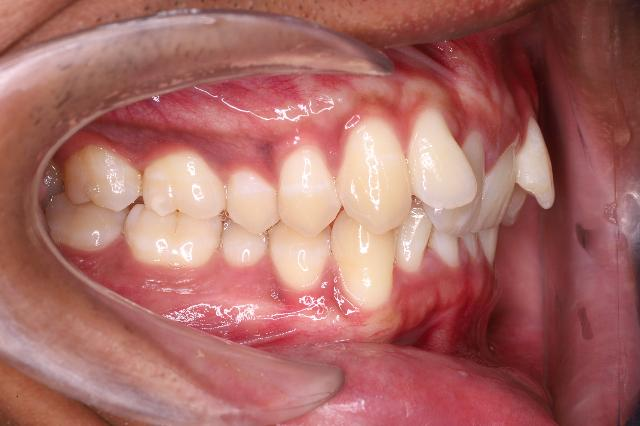canine class II 3/4: (268, 114, 416, 312)
molar class II 1/2: (123, 148, 229, 272)
